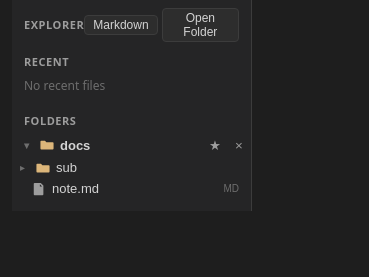
Test: Explorer context menu (plan 03 task 3.6, issue #44) › right-clicking a folder row shows create (inside it) plus the entry items
The width and height of the screenshot is (369, 277).
Step 1. Right-click the button "▸ sub" → point(132, 168), box [12,157,251,178]
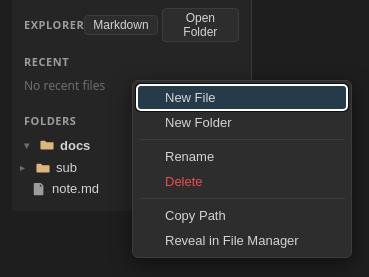
Expected: the menu item with aria-label "New File" is shown, [137,85,347,110]
Expected: the menu item with aria-label "New Folder" is shown, [137,110,347,135]
Expected: the menu item with aria-label "Rename" is shown, [137,144,347,169]
